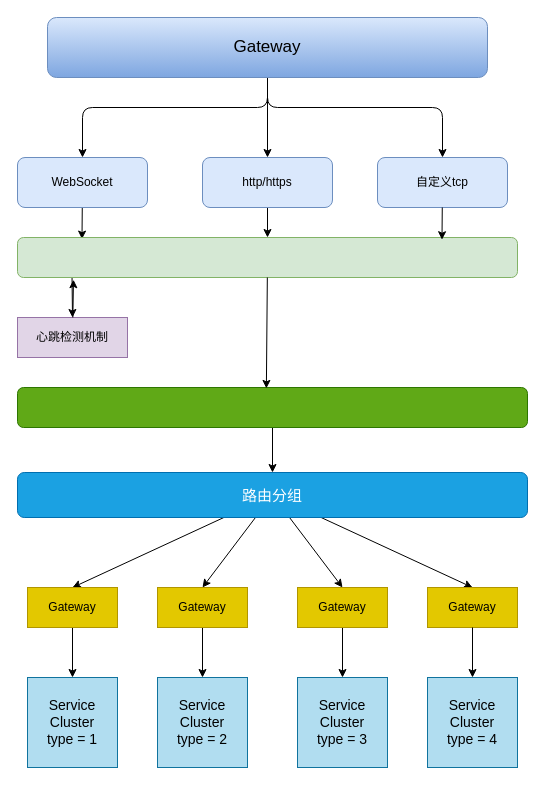
This 545x785 diagram has some shape labels left out. Here are the shapes that lost their labels. From the top down, the box of each, then its label:
(16, 236, 518, 278): gRPC权限校验服务
(16, 386, 528, 428): 序列化发送消息
